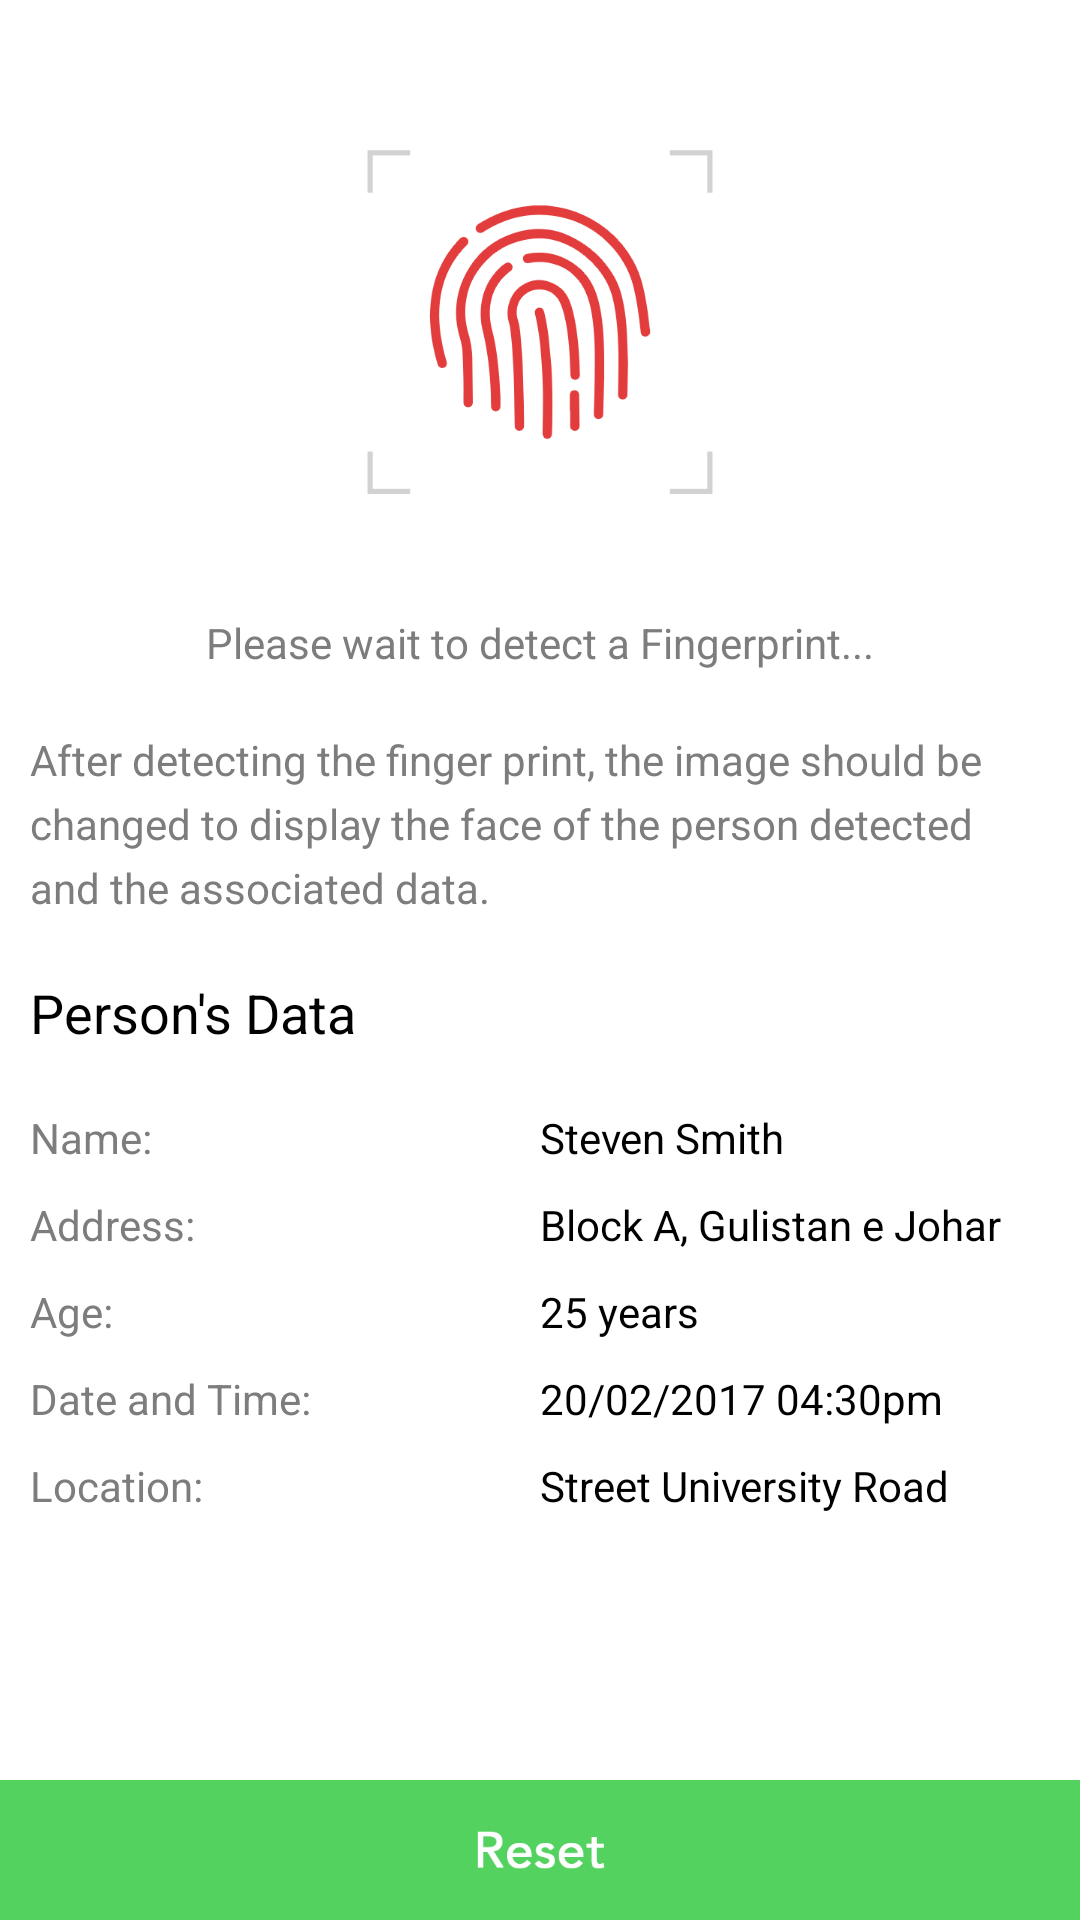

Where icons sit on this 1080 x 1920 app screen, as bbox=(x1, y1, x2, y2):
fingerprint demo: bbox=(368, 150, 712, 494)
